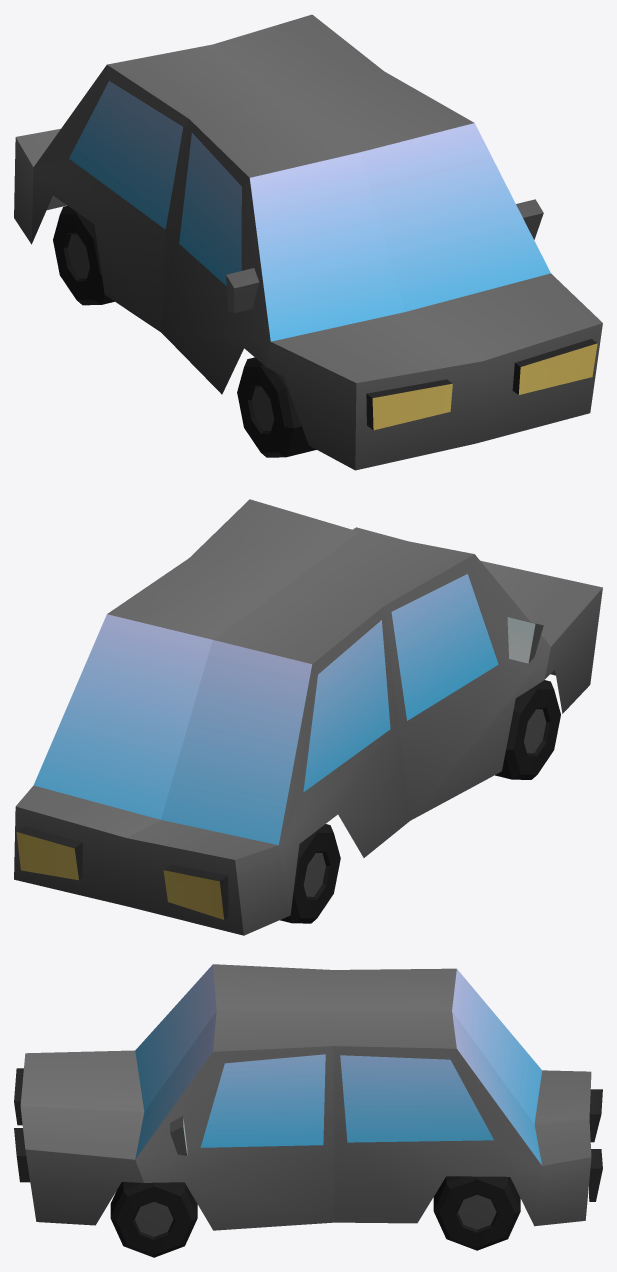
Rendered from generic3.fbx.
3 renders of one model, top to bottom at view 1: azimuth 30°, elevation 25°; view 2: azimuth 150°, elevation 25°; view 3: azimuth 270°, elevation 25°, orthographic. The views are drawn at different scales.
Visible parts, largest first — view 1: car_base.005; view 2: car_base.005; view 3: car_base.005.
Boxes of the visible parts, <box> form: car_base.005: <box>14,14,602,470</box>; car_base.005: <box>14,499,602,935</box>; car_base.005: <box>14,964,602,1257</box>.
Bounding box in the file's own units: 203 × 155 × 419.
